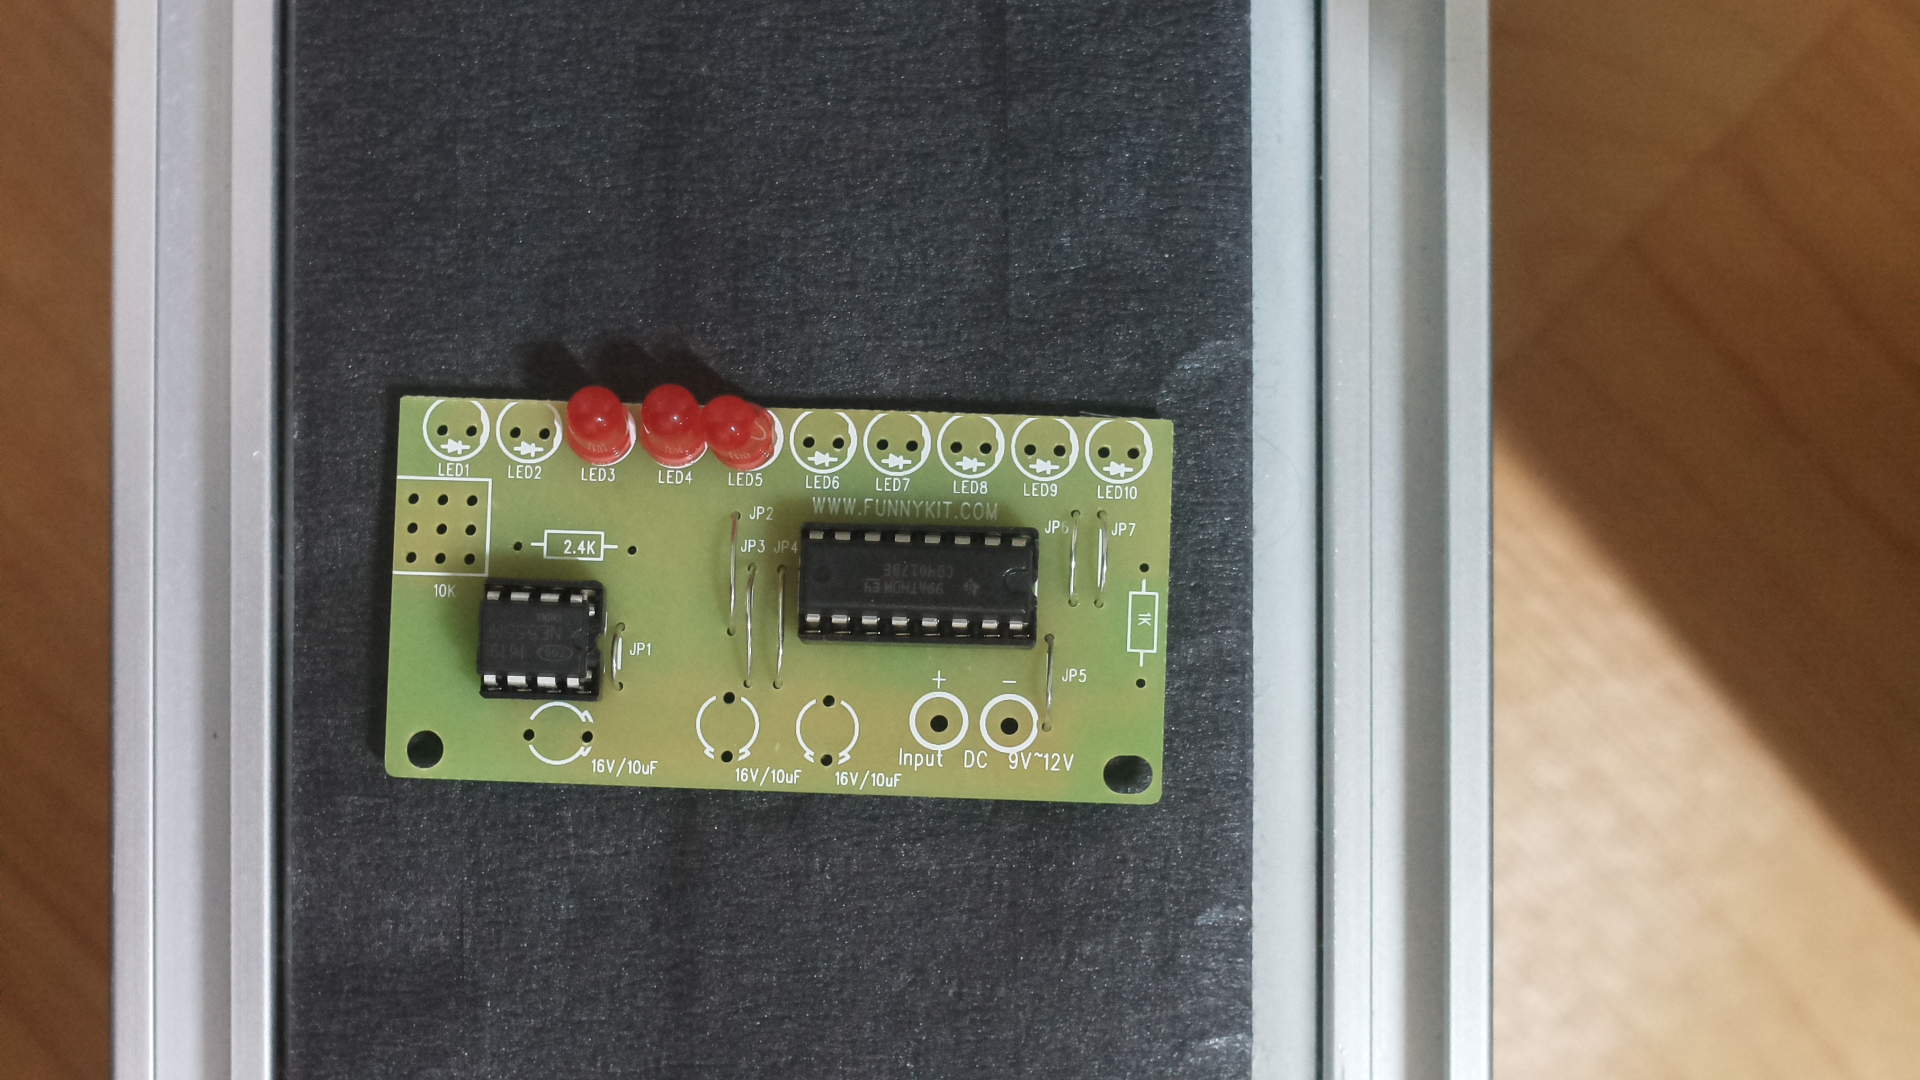B_Missing_part: (361, 381, 1182, 832)
